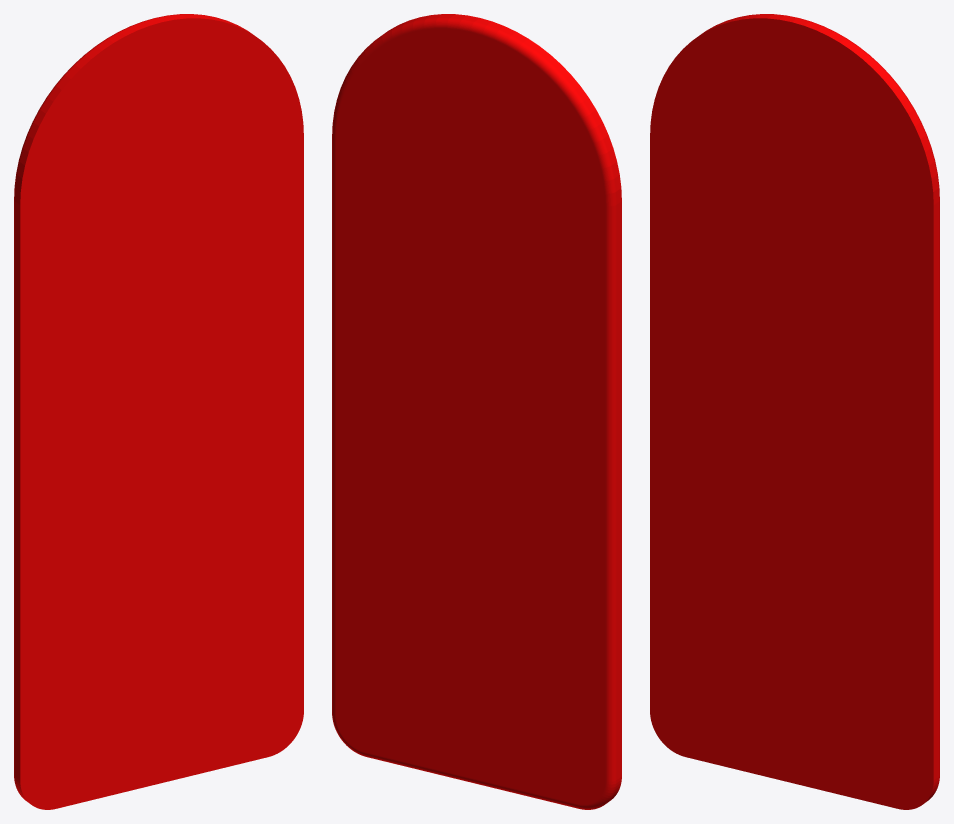
The model's file is legs_1_left_leg_1_rubber_1.glb.
3 views of the same model, side by side, from view 1: azimuth 30°, elevation 25°; view 2: azimuth 150°, elevation 25°; view 3: azimuth 330°, elevation 25° (orthographic).
Parts seen in each view (by area): view 1: legs_1_left_leg_1_rubber_1.obj; view 2: legs_1_left_leg_1_rubber_1.obj; view 3: legs_1_left_leg_1_rubber_1.obj.
Part boxes in pixels (x1,y1,x2,y2): legs_1_left_leg_1_rubber_1.obj: (14, 14, 303, 809); legs_1_left_leg_1_rubber_1.obj: (332, 14, 621, 809); legs_1_left_leg_1_rubber_1.obj: (650, 14, 939, 809).
Bounding box in the file's own units: 0.08 × 0.205 × 0.0045.
